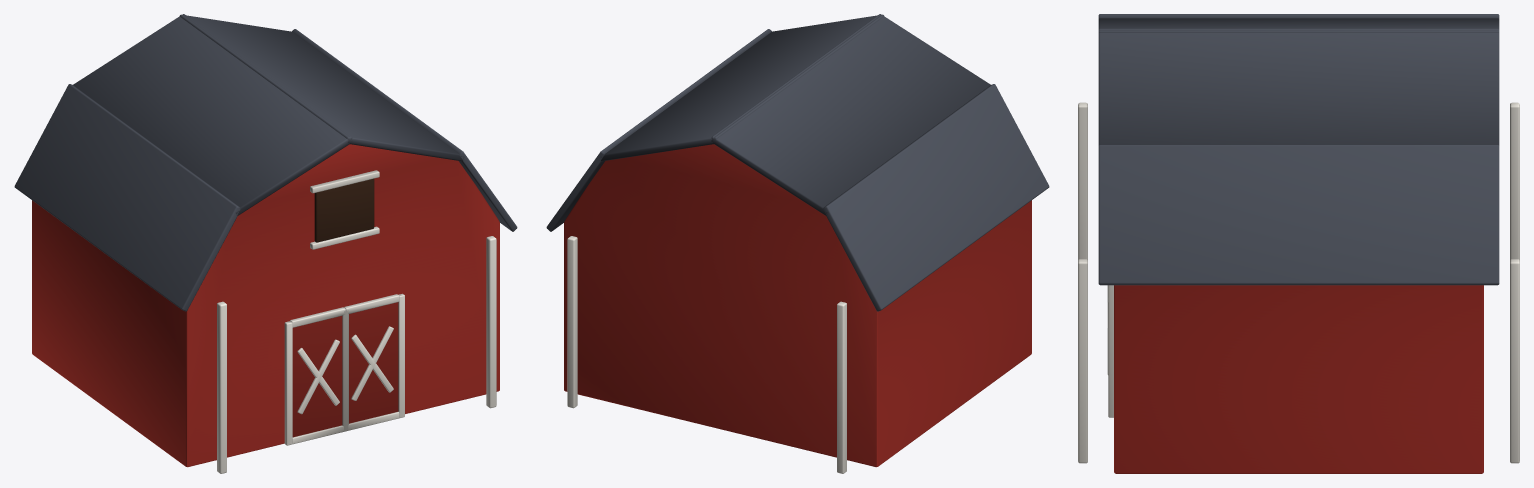
Rendered from barn.glb.
The picture shows the model from 3 angles, left to right: view 1: azimuth 30°, elevation 25°; view 2: azimuth 150°, elevation 25°; view 3: azimuth 270°, elevation 25°; orthographic projection. The views are drawn at different scales.
Visible parts, largest first — view 1: barn; view 2: barn; view 3: barn.
Part boxes in pixels (left/top/right/bottom): barn: left=14, top=14, right=517, bottom=473; barn: left=546, top=14, right=1049, bottom=473; barn: left=1078, top=14, right=1519, bottom=473.
Bounding box in the file's own units: 7.48 × 6.33 × 7.16.
